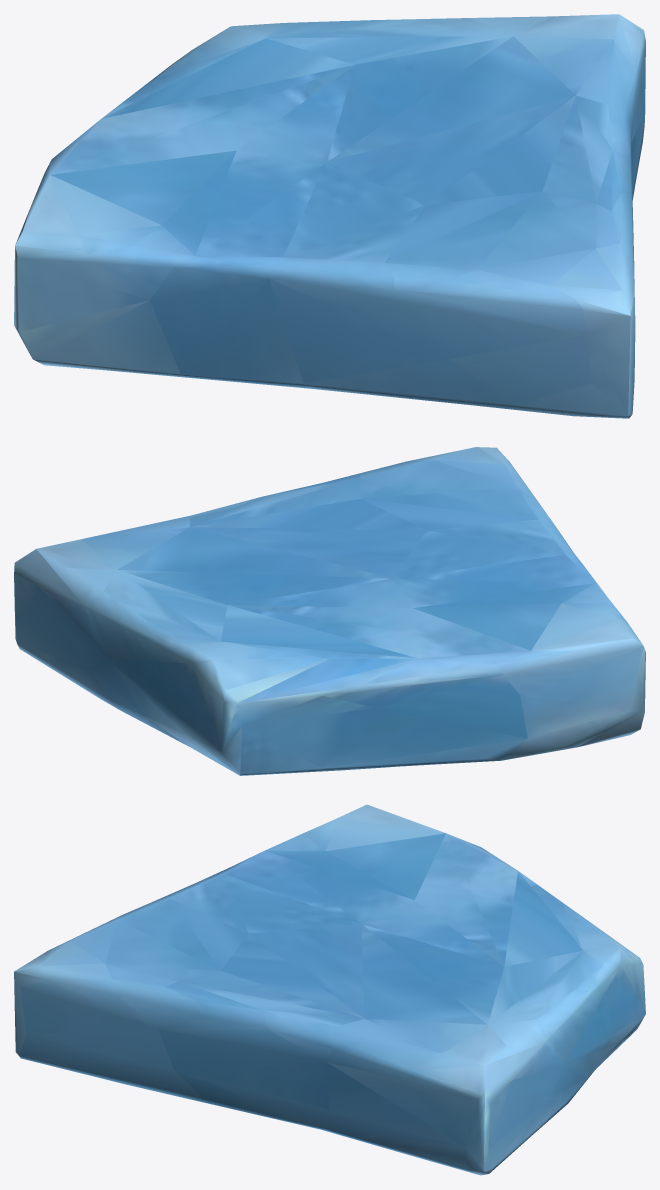
File: placa_hielo_rota_1_300.glb
3 renders of one model, top to bottom at view 1: azimuth 30°, elevation 25°; view 2: azimuth 150°, elevation 25°; view 3: azimuth 270°, elevation 25°, orthographic. The views are drawn at different scales.
Parts seen in each view (by area): view 1: placa_hielo_rota_1_malla; view 2: placa_hielo_rota_1_malla; view 3: placa_hielo_rota_1_malla.
Part boxes in pixels (<box>): placa_hielo_rota_1_malla: <box>14,14,645,418</box>; placa_hielo_rota_1_malla: <box>14,447,645,775</box>; placa_hielo_rota_1_malla: <box>14,804,645,1175</box>.
Size of the model in its own units: 0.1527 by 0.0277 by 0.1474.
Materials: 1 (1 with a texture image).
